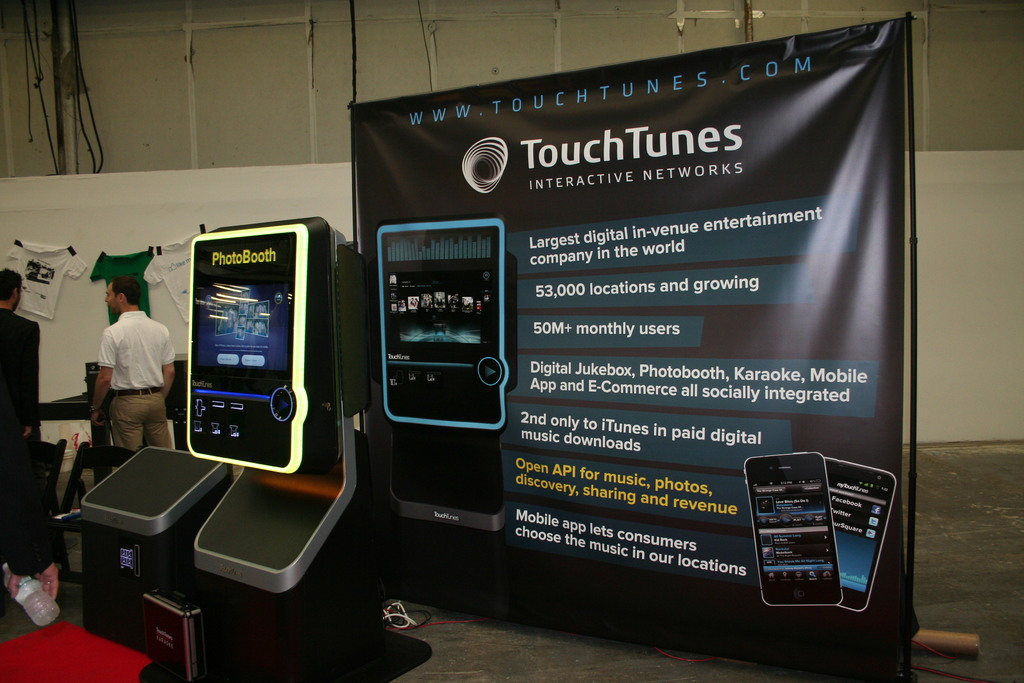mobile phone: (186, 215, 330, 472)
